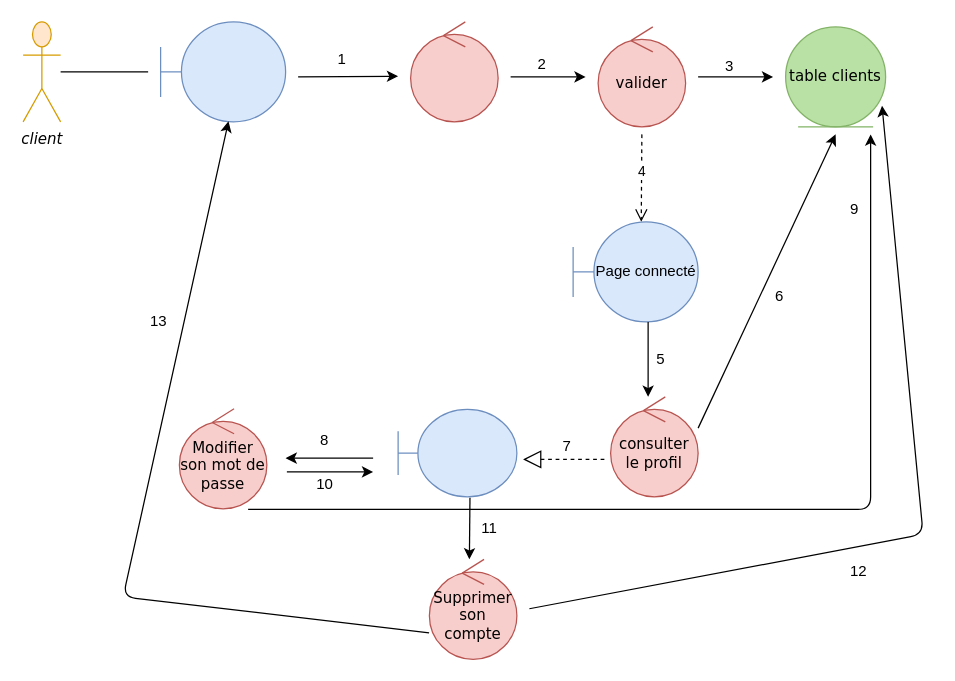
Image size: 955x681. Some labels were removed from this diagram. The centre of each missing label's shape, as x and y in pixels:
accueil: (x=222, y=71)
connexion: (x=453, y=71)
Profil: (x=457, y=452)
